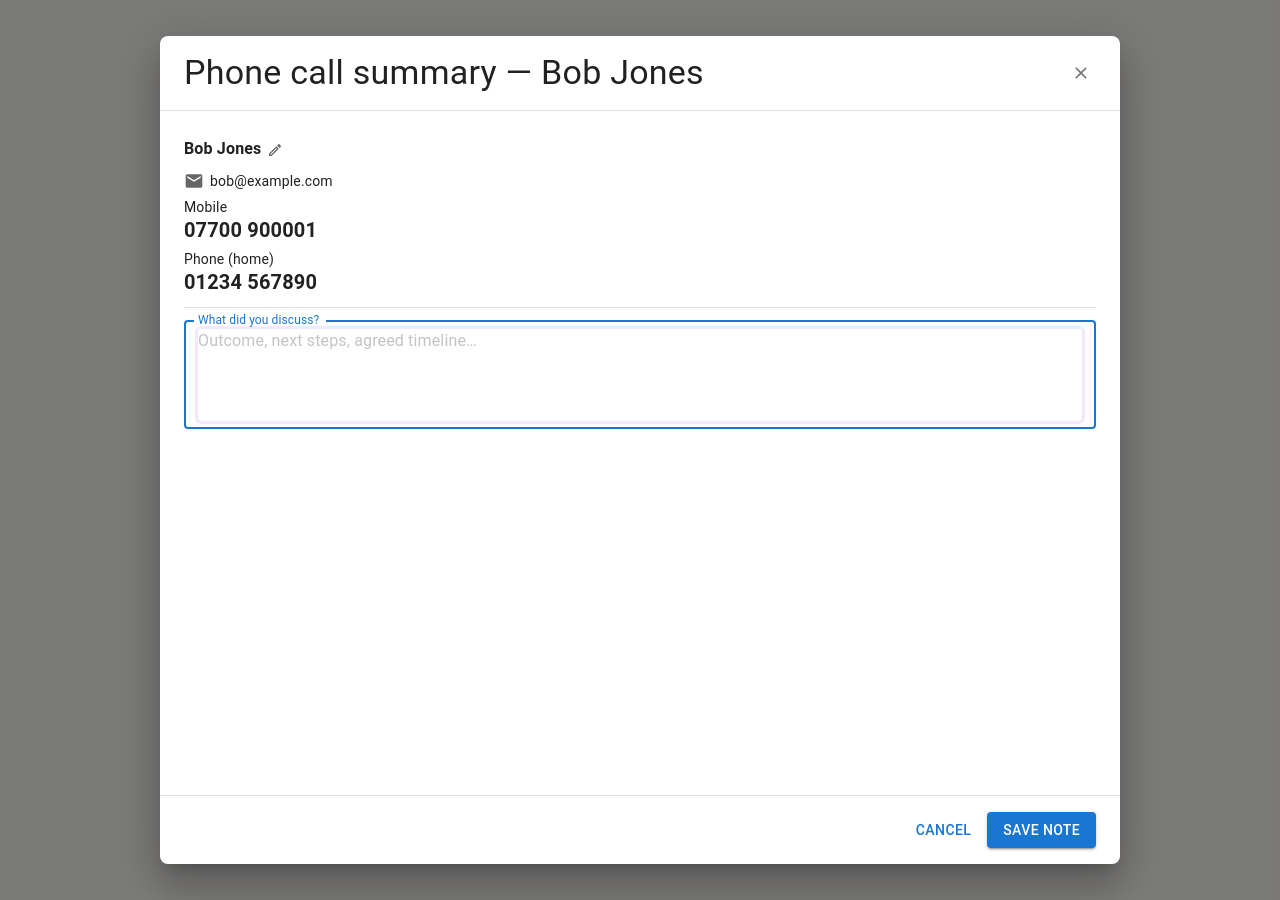
Scenario: PhoneSummaryModal — discard guard: isLocked suppresses prompt › disables the close button and shows no dialog while a save is in flight
The image size is (1280, 900).
In the text box labelled "What did you discuss?": (640, 374) [198,328,1082,420], type "In-flight note"
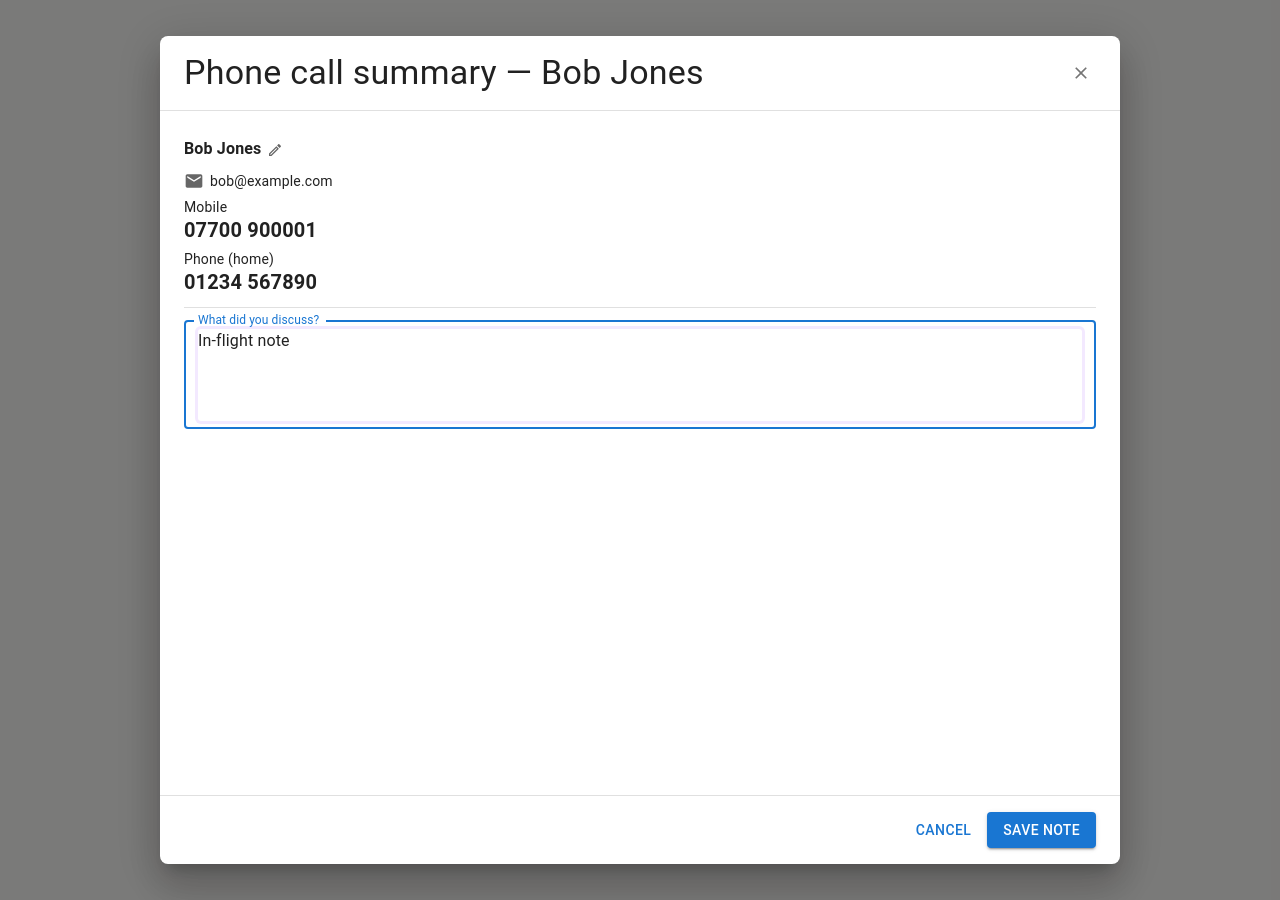
Click the button with test id "cah-primary": click(1042, 830) [987,812,1096,848]
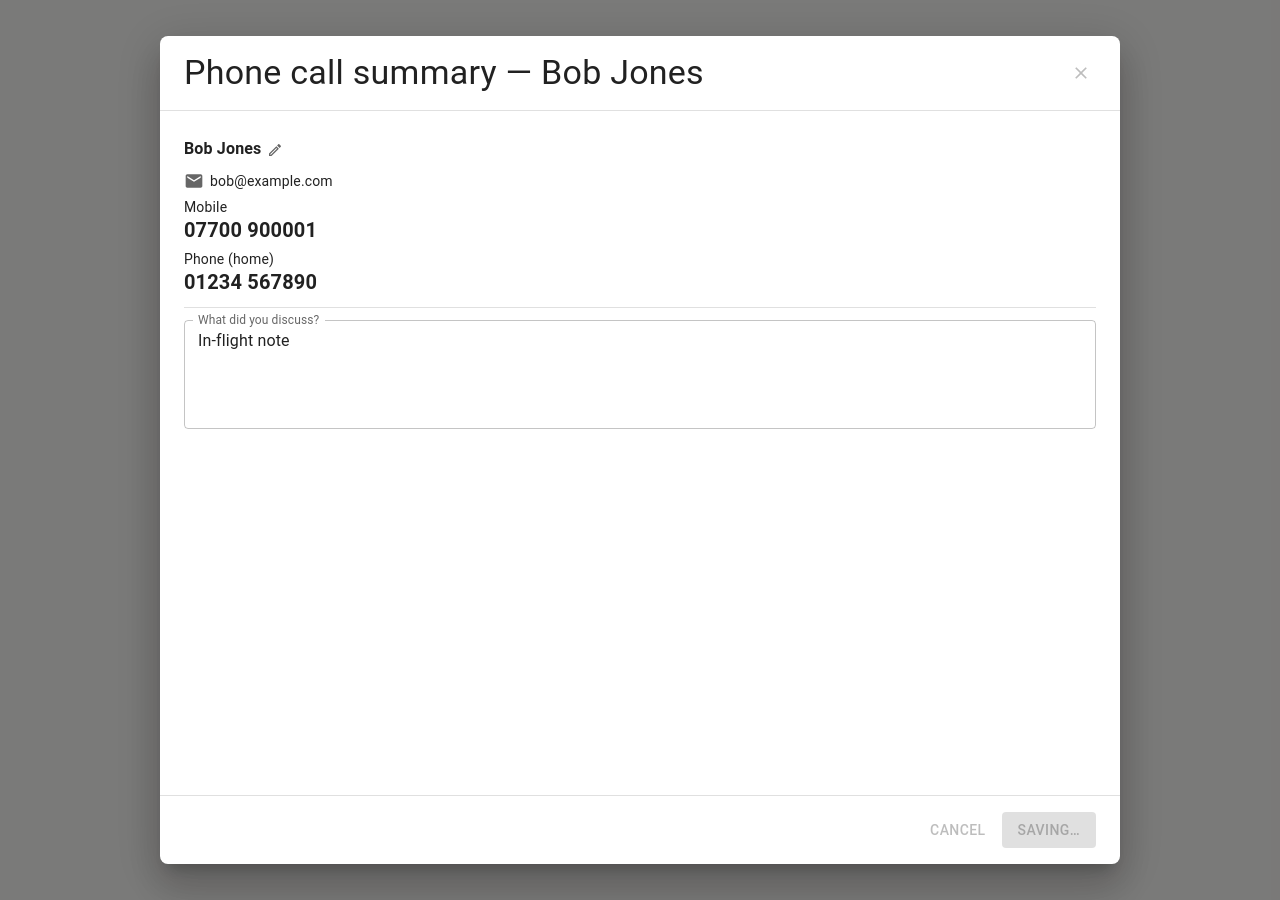
Now the button with test id "cah-primary" is disabled, box [1002,812,1096,848]
Now the button named "close" is disabled, box [1066,58,1096,88]
